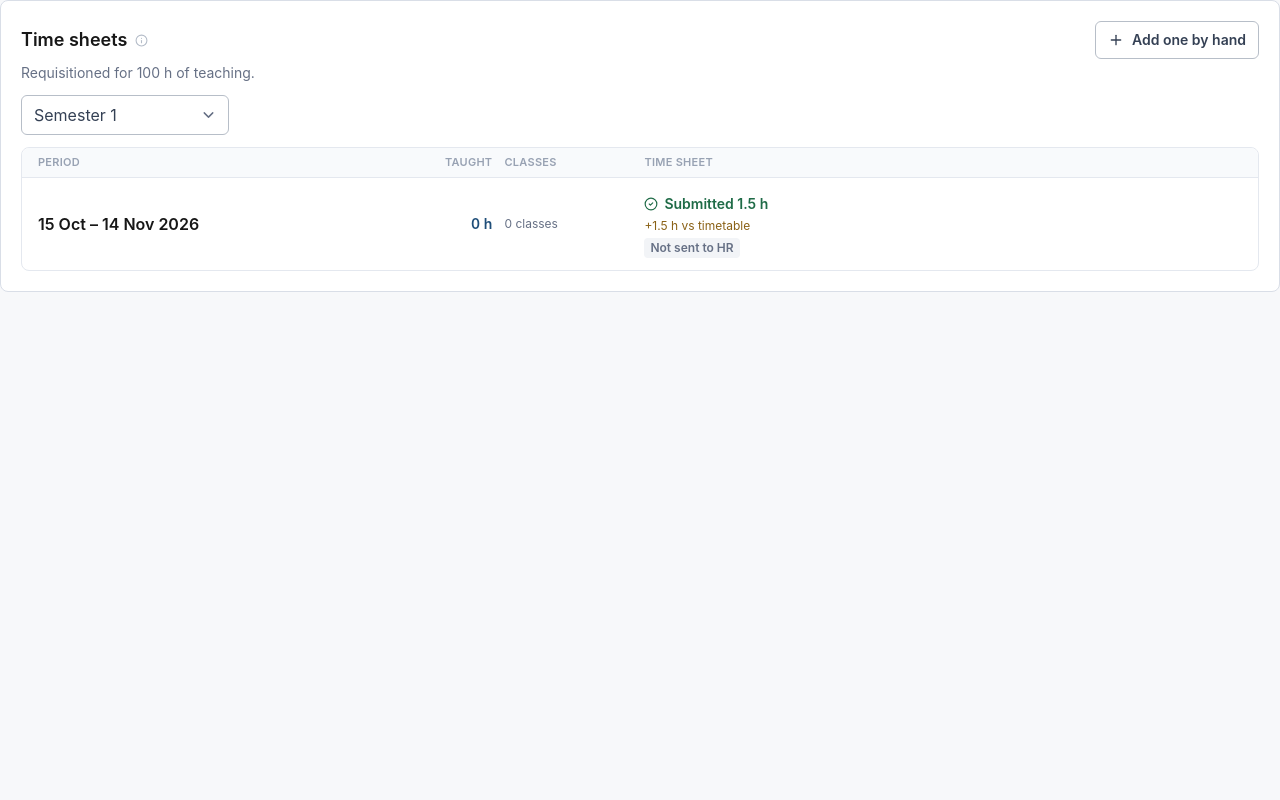
Test: opening a submitted sheet › says so when a sheet arrived with no days on it
Click the button "Submitted 1.5 h": [706, 204] box 644,194 -> 768,214
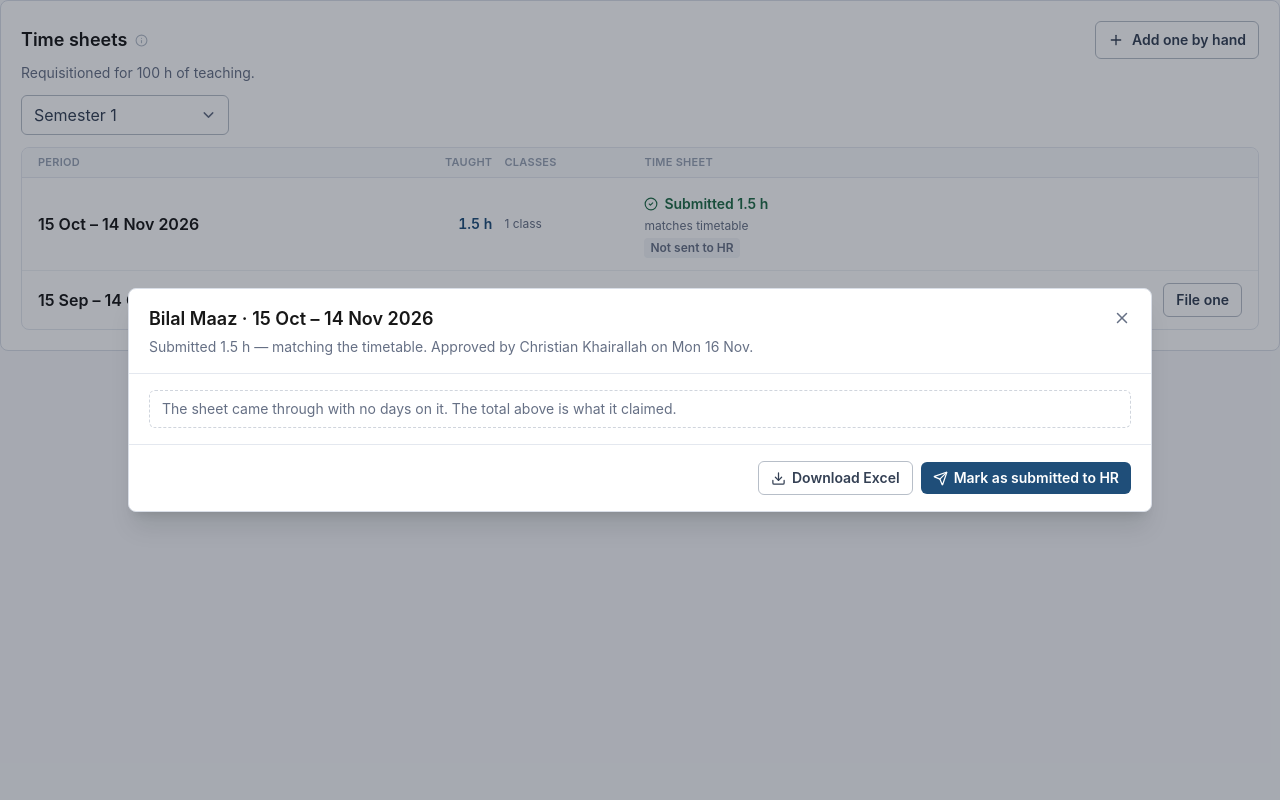
Result: the text "came through with no days on it" is shown at 162,400 -> 677,417
